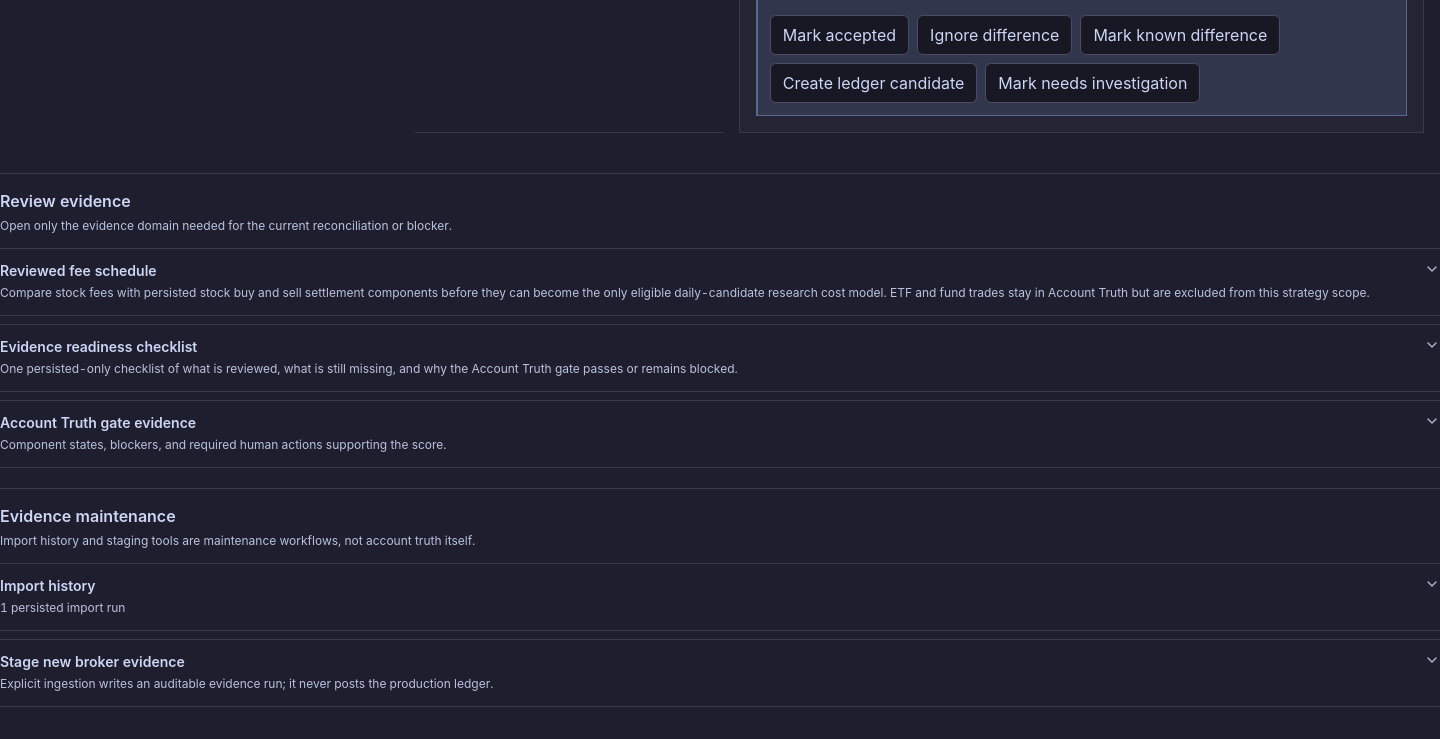
it: shows the enabled local collector as evidence-only automatic reading
(page scrolled)
Click the heading "Stage new broker evidence" at (92, 662), box [0, 639, 1439, 707]
(page scrolled)
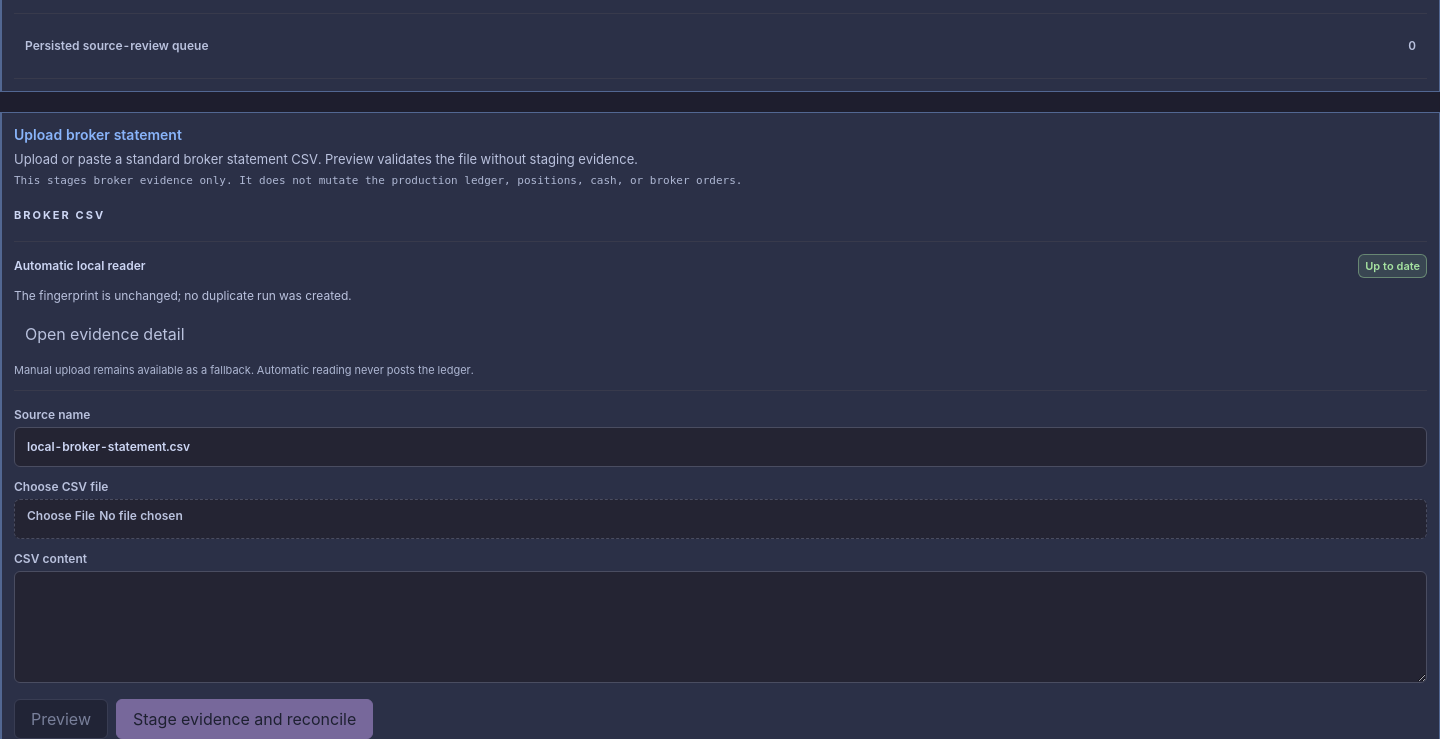
Expected: the text "Automatic local reader" is shown, [14, 258, 146, 274]
Expected: the text "Up to date" is shown, [1358, 254, 1427, 278]
Expected: the text "The fingerprint is unchanged; no duplicate run was created." is shown, [14, 288, 352, 303]
Click the button "Open evidence detail" at (105, 334), box [14, 314, 196, 354]
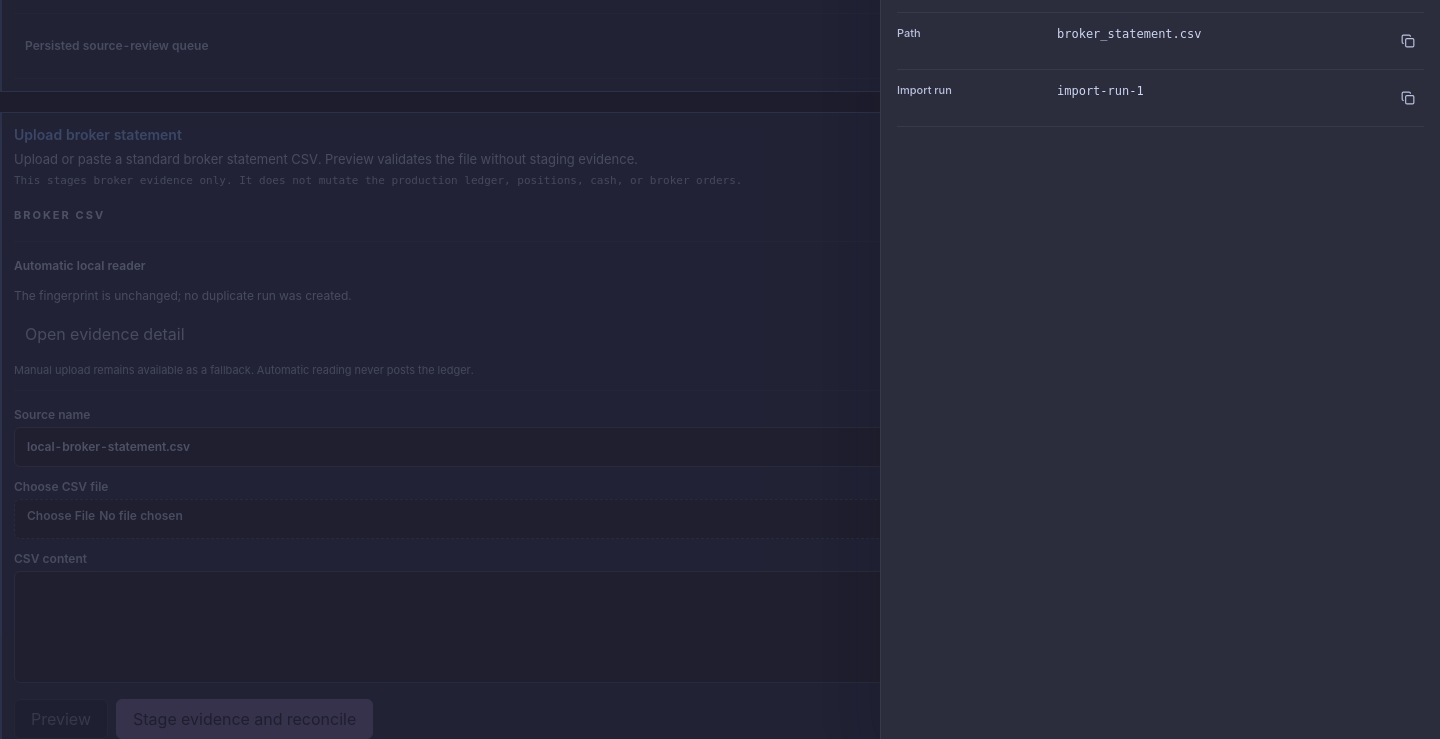
Expected: the element with test id "broker-statement-collector-status" shows "Automatic reading never posts the ledger.", [14, 363, 474, 377]
Expected: the text "broker_statement.csv" is shown, [1057, 25, 1202, 43]
Expected: the text "import-run-1" is shown, [1057, 82, 1144, 100]
